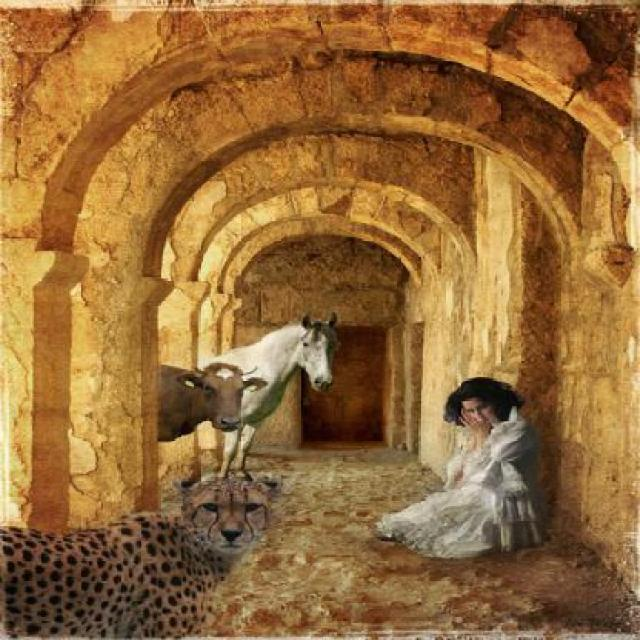Person: (372, 380, 538, 558)
